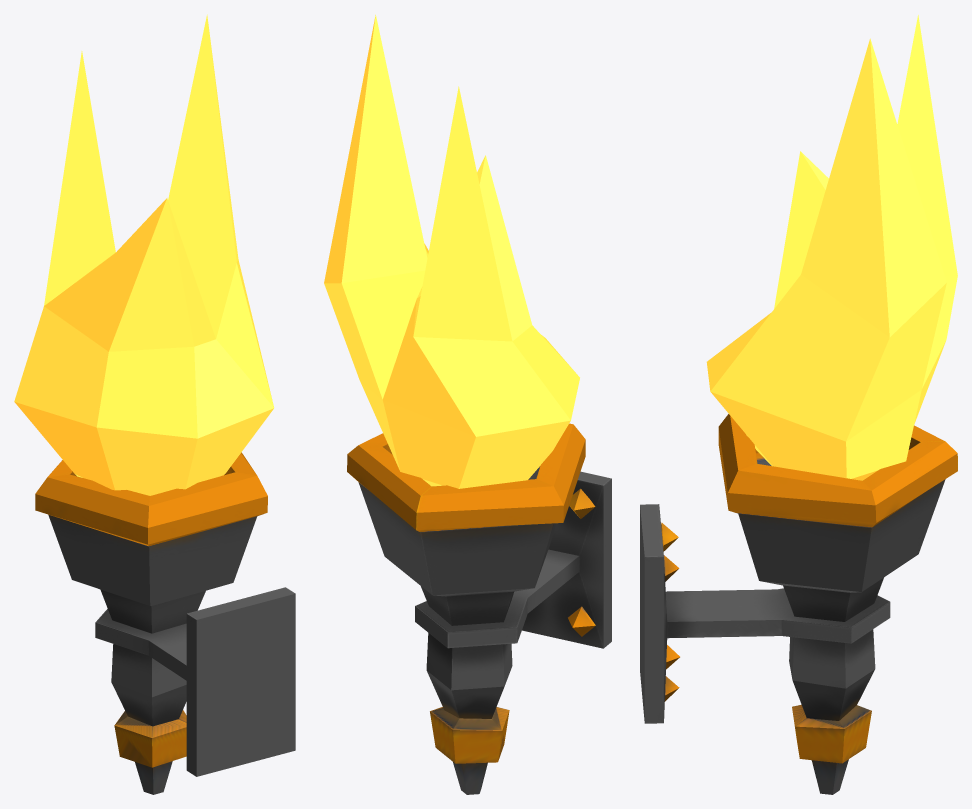
Rendered from torch_idle.fbx.
3 views of the same model, side by side, from view 1: azimuth 30°, elevation 25°; view 2: azimuth 150°, elevation 25°; view 3: azimuth 270°, elevation 25° (orthographic). The views are drawn at different scales.
Parts seen in each view (by area): view 1: torch; view 2: torch; view 3: torch.
Part boxes in pixels (x1,y1,x2,y2): torch: (14, 14, 295, 794); torch: (324, 14, 611, 794); torch: (640, 15, 957, 794).
Bounding box in the file's own units: 29.51 × 90.84 × 33.12.
